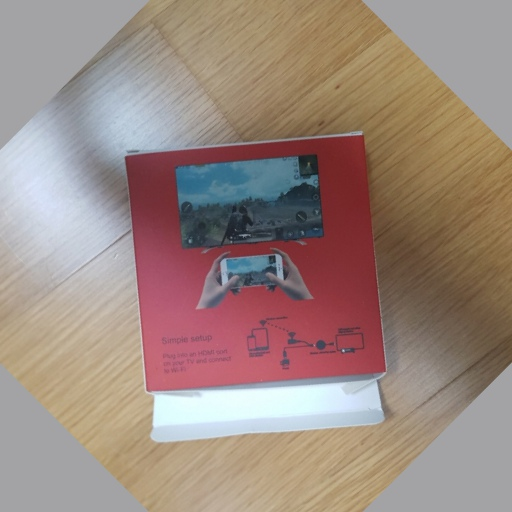Paper_0: (119, 129, 397, 443)
